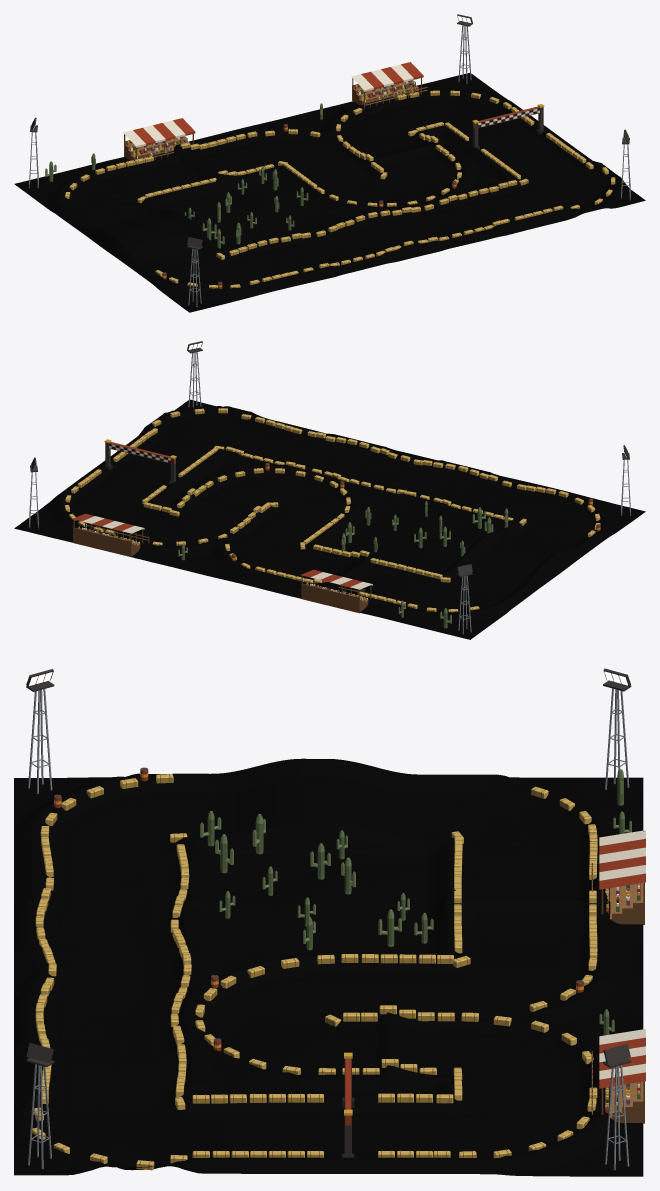
Rendered from track_1.glb.
The picture shows the model from 3 angles, top to bottom: view 1: azimuth 30°, elevation 25°; view 2: azimuth 150°, elevation 25°; view 3: azimuth 270°, elevation 25°; orthographic projection. The views are drawn at different scales.
Parts seen in each view (by area): view 1: track_1_ground, t1_grandstand_2, t1_grandstand_1, t1_start_arch_0, t1_floodlight_5, t1_floodlight_4; view 2: track_1_ground, t1_grandstand_1, t1_grandstand_2, t1_start_arch_0, t1_floodlight_3, t1_floodlight_6; view 3: track_1_ground, t1_grandstand_1, t1_grandstand_2, t1_floodlight_4, t1_floodlight_6, t1_floodlight_5, t1_floodlight_3, t1_start_arch_0.
Part boxes in pixels (x1,y1,x2,y2): track_1_ground: (14,73,645,312); t1_grandstand_2: (351,62,423,105); t1_grandstand_1: (123,118,195,160); t1_start_arch_0: (472,104,544,149); t1_floodlight_5: (187,237,202,306); t1_floodlight_4: (457,14,472,83); track_1_ground: (14,399,645,639); t1_grandstand_1: (300,569,372,613); t1_grandstand_2: (72,513,144,557); t1_start_arch_0: (104,439,176,484); t1_floodlight_3: (457,564,472,634); t1_floodlight_6: (187,341,202,407); track_1_ground: (14,758,643,1176); t1_grandstand_1: (599,830,645,924); t1_grandstand_2: (599,1029,645,1123); t1_floodlight_4: (603,1044,631,1170); t1_floodlight_6: (26,1043,54,1169); t1_floodlight_5: (26,669,54,793); t1_floodlight_3: (603,668,631,789); t1_start_arch_0: (342,1052,354,1157).
Bounding box in the file's own units: 72 × 10.23 × 48.2.
Materials: 32 (1 with a texture image).
